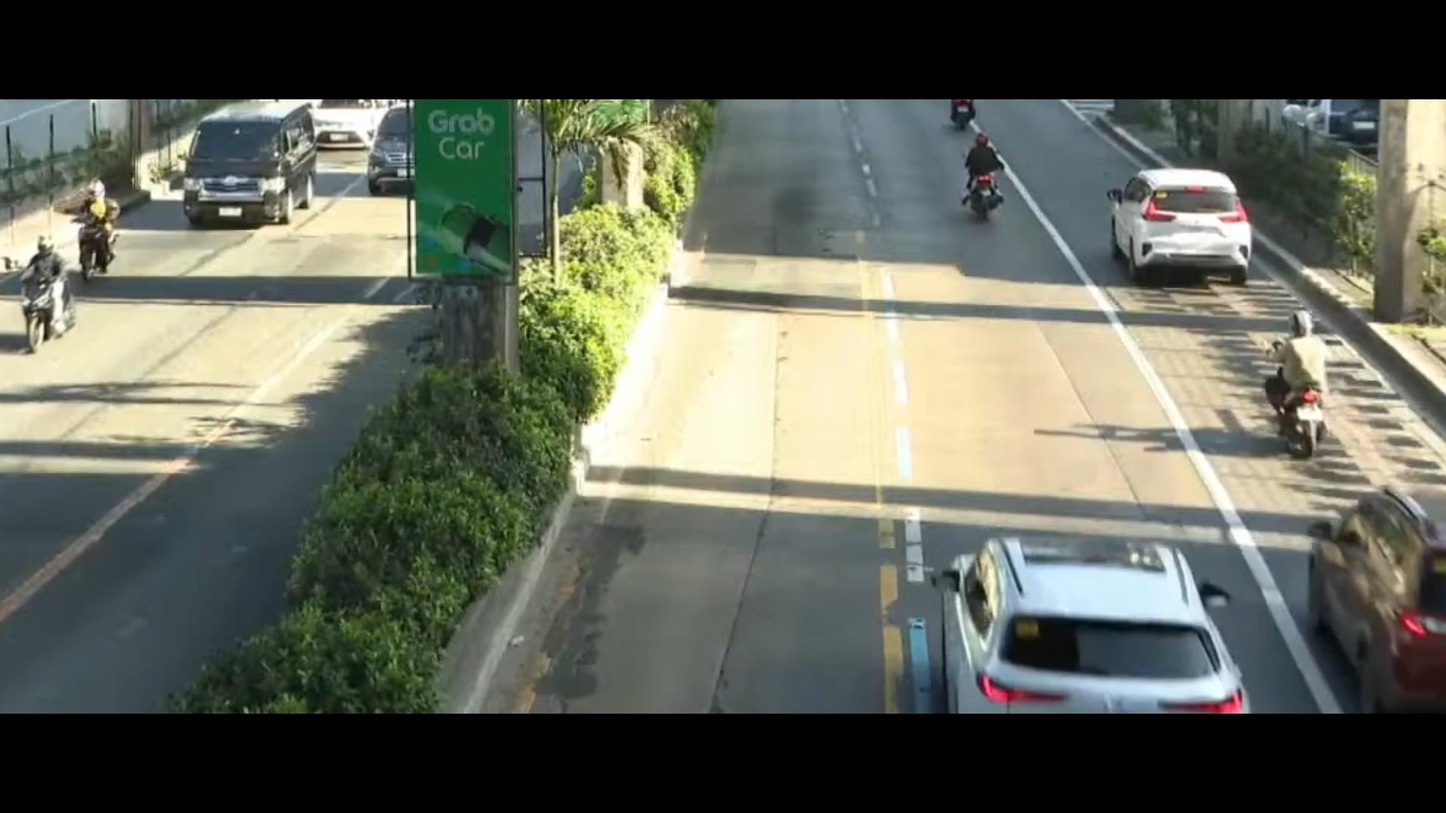Motorcycle: (1256, 305, 1355, 455), (0, 230, 78, 366), (69, 161, 143, 292), (950, 119, 1032, 220)
SUV: (889, 495, 1250, 714), (1300, 477, 1446, 712), (1106, 145, 1271, 288), (345, 104, 426, 200)
Van: (167, 102, 319, 249)
